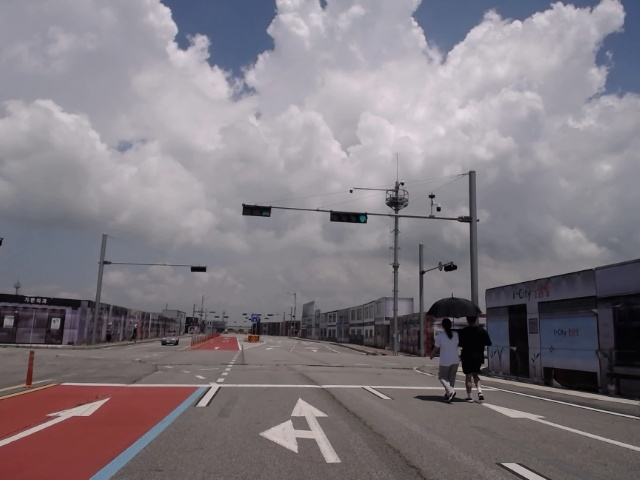straight_green_4: (330, 210, 369, 224)
